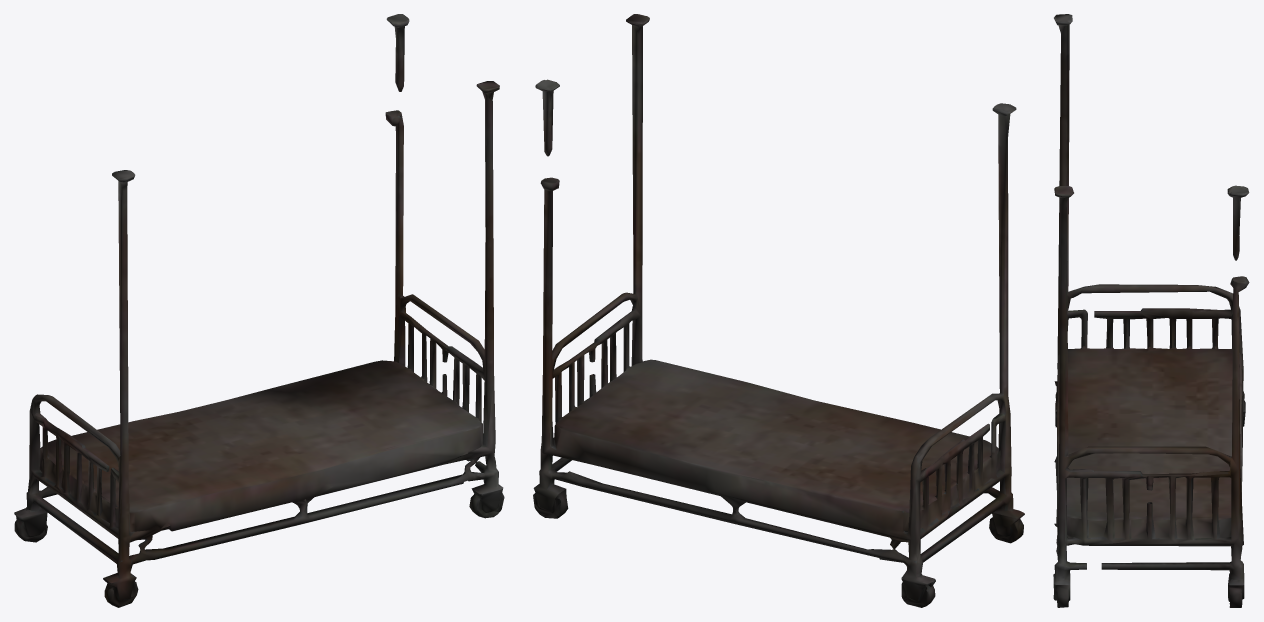
File: weathered-iron-asylum-bed-v001.glb
The picture shows the model from 3 angles, left to right: view 1: azimuth 30°, elevation 25°; view 2: azimuth 150°, elevation 25°; view 3: azimuth 270°, elevation 25°; orthographic projection. The views are drawn at different scales.
Parts seen in each view (by area): view 1: weathered-iron-asylum-bed; view 2: weathered-iron-asylum-bed; view 3: weathered-iron-asylum-bed.
Boxes of the visible parts, <box> form: weathered-iron-asylum-bed: <box>14,14,504,607</box>; weathered-iron-asylum-bed: <box>533,14,1024,607</box>; weathered-iron-asylum-bed: <box>1053,14,1249,607</box>.
Bounding box in the file's own units: 1.04 × 1.08 × 0.4583.
Materials: 1 (1 with a texture image).
